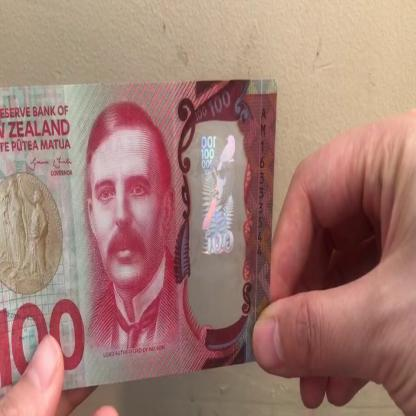100F: (198, 127, 242, 310)
